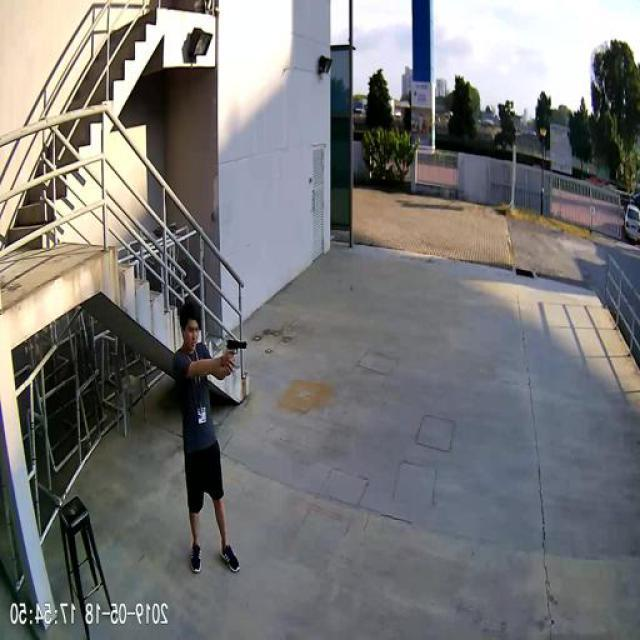Gun: (228, 338, 250, 352)
